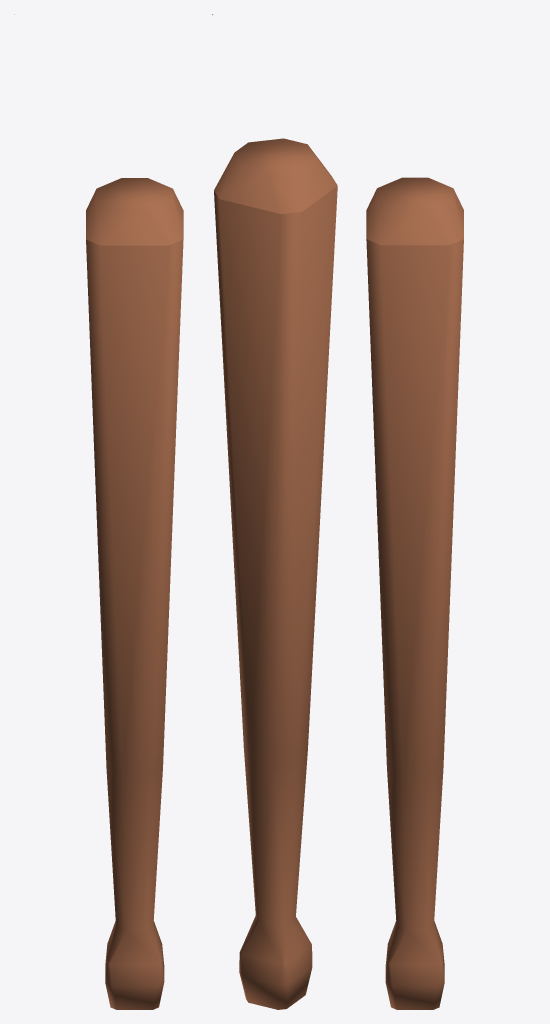
Rendered from Batton_002.fbx.
3 views of the same model, side by side, from view 1: azimuth 90°, elevation 25°; view 2: azimuth 150°, elevation 25°; view 3: azimuth 270°, elevation 25° (orthographic). The views are drawn at different scales.
Parts seen in each view (by area): view 1: Batton.002; view 2: Batton.002; view 3: Batton.002.
Part boxes in pixels (x1,y1,x2,y2): Batton.002: (14, 14, 183, 1009); Batton.002: (212, 14, 337, 1009); Batton.002: (366, 177, 463, 1009).
Size of the model in its own units: 0.2803 by 3.13 by 0.4858.
